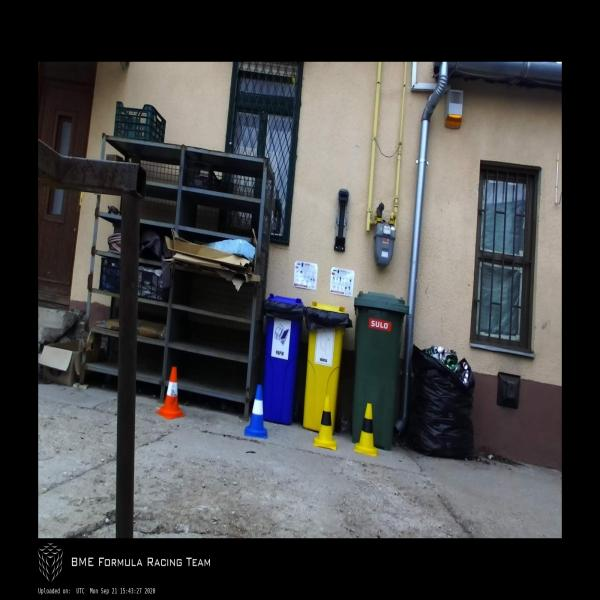blue_cone: (245, 384, 268, 438)
orange_cone: (154, 366, 186, 418)
yellow_cone: (354, 403, 377, 456), (314, 396, 336, 450)
